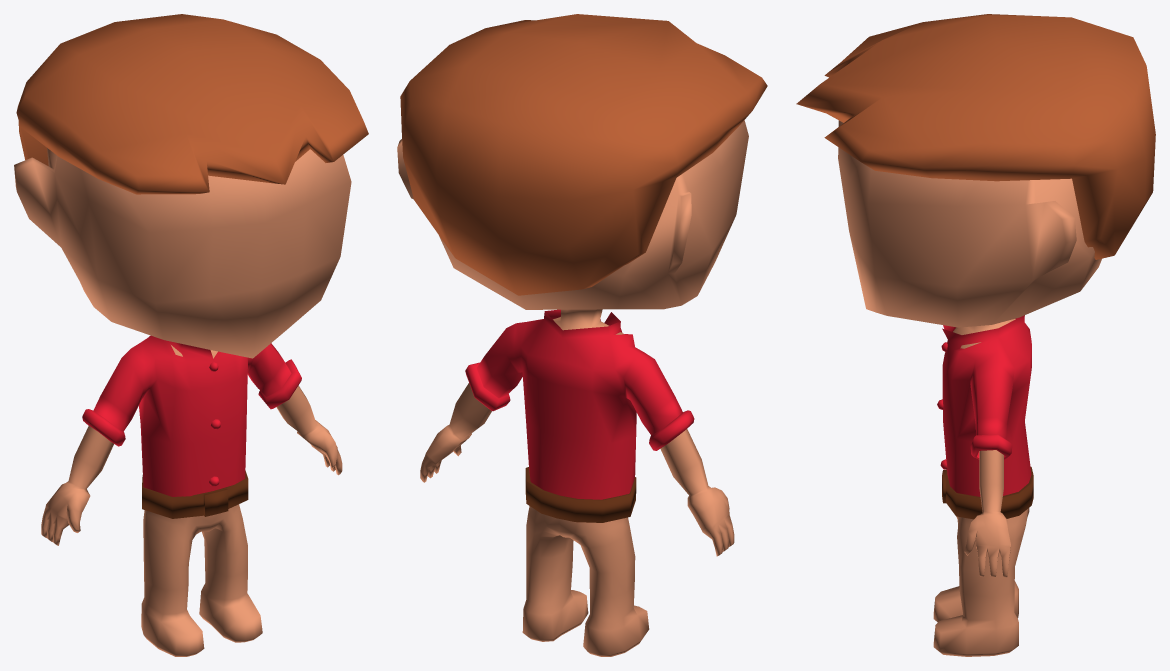
File: brock blockout.fbx
3 views of the same model, side by side, from view 1: azimuth 30°, elevation 25°; view 2: azimuth 150°, elevation 25°; view 3: azimuth 270°, elevation 25° (orthographic). The views are drawn at different scales.
Visible parts, largest first — view 1: Brock base.002; view 2: Brock base.002; view 3: Brock base.002.
Part boxes in pixels (x1=…): Brock base.002: x1=14, y1=14, x2=368, y2=656; Brock base.002: x1=397, y1=14, x2=767, y2=656; Brock base.002: x1=796, y1=14, x2=1155, y2=656.
Size of the model in its own units: 366 by 701 by 386.
